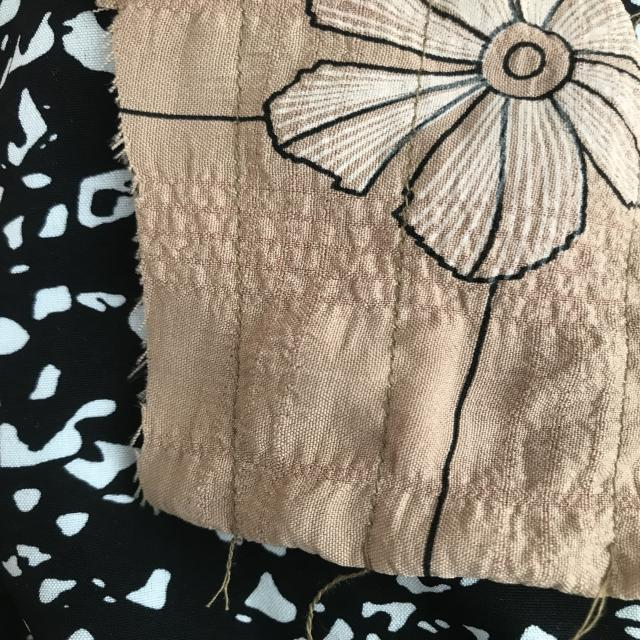good: (226, 36, 250, 102)
